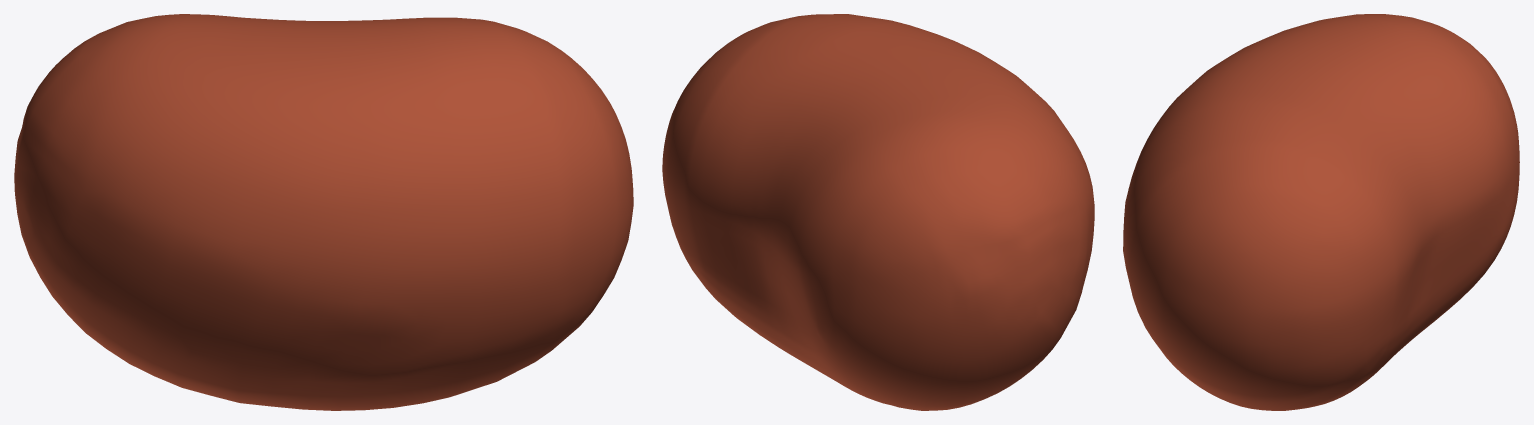
The model's file is jellyBeanRed.fbx.
3 renders of one model, left to right at view 1: azimuth 30°, elevation 25°; view 2: azimuth 150°, elevation 25°; view 3: azimuth 270°, elevation 25°, orthographic. The views are drawn at different scales.
Parts seen in each view (by area): view 1: pasted__pasted__model4; view 2: pasted__pasted__model4; view 3: pasted__pasted__model4.
Boxes of the visible parts, bbox=[...] form: pasted__pasted__model4: bbox=[14, 14, 633, 410]; pasted__pasted__model4: bbox=[662, 14, 1094, 410]; pasted__pasted__model4: bbox=[1123, 14, 1519, 410].
Bounding box in the file's own units: 2.02 × 1.37 × 1.64.
